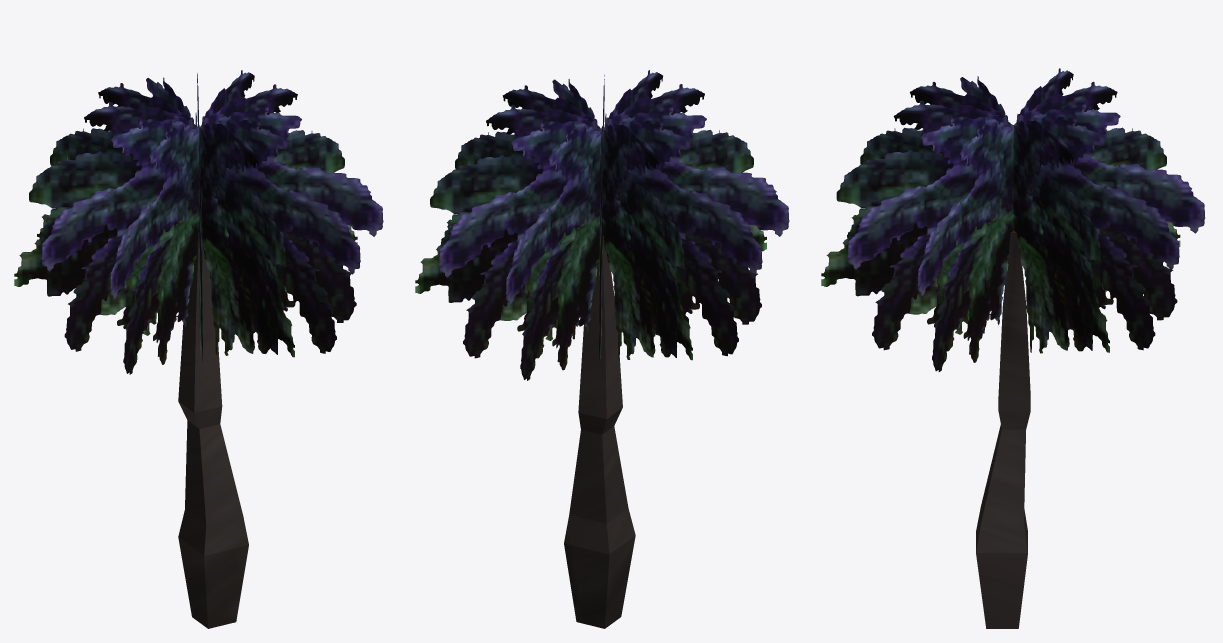
Rendered from tree.fbx.
The picture shows the model from 3 angles, left to right: view 1: azimuth 30°, elevation 25°; view 2: azimuth 150°, elevation 25°; view 3: azimuth 270°, elevation 25°; orthographic projection.
Parts seen in each view (by area): view 1: Cube; view 2: Cube; view 3: Cube.
Boxes of the visible parts, x1,y1,x2,y2 form: Cube: (14,70,383,628); Cube: (415,70,789,628); Cube: (821,68,1205,628).
Size of the model in its own units: 173 by 271 by 181.
